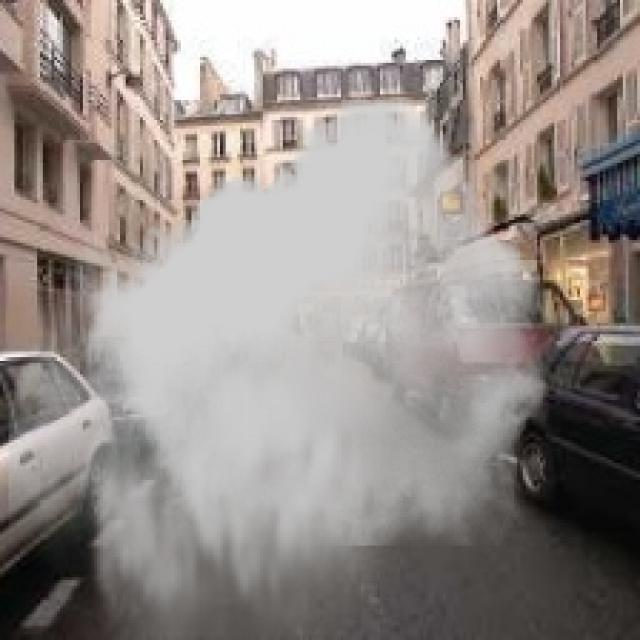Smoke: (9, 97, 552, 637)
